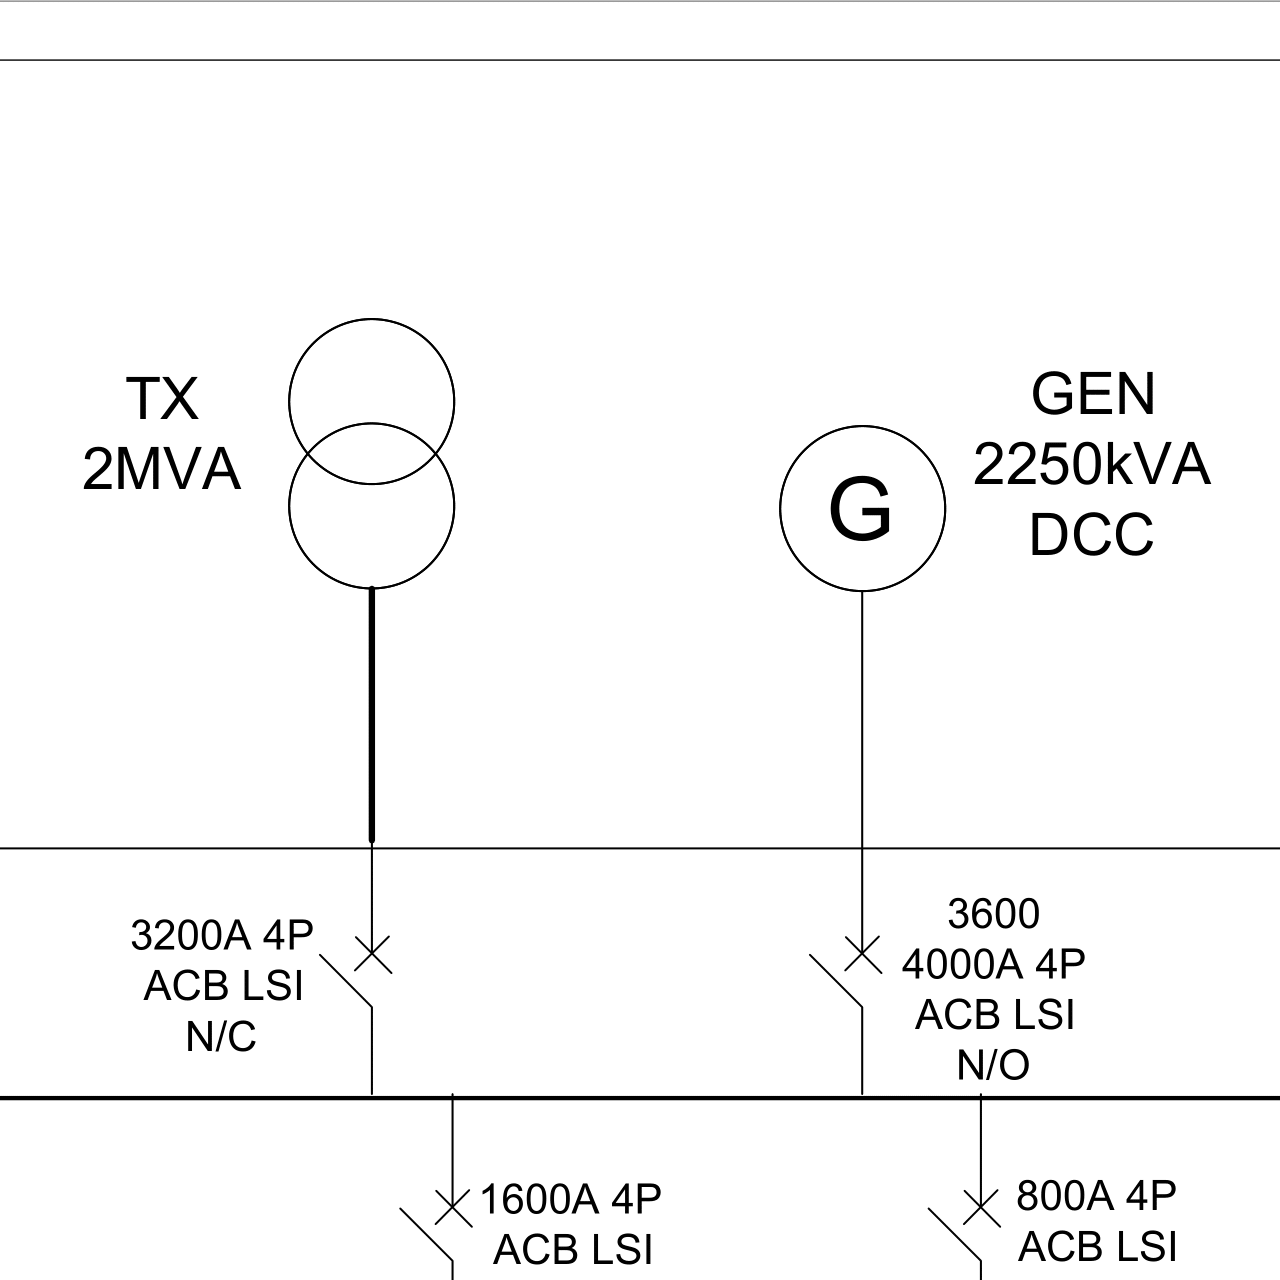Generator: (751, 416, 962, 607)
Transformer: (268, 316, 498, 607)
